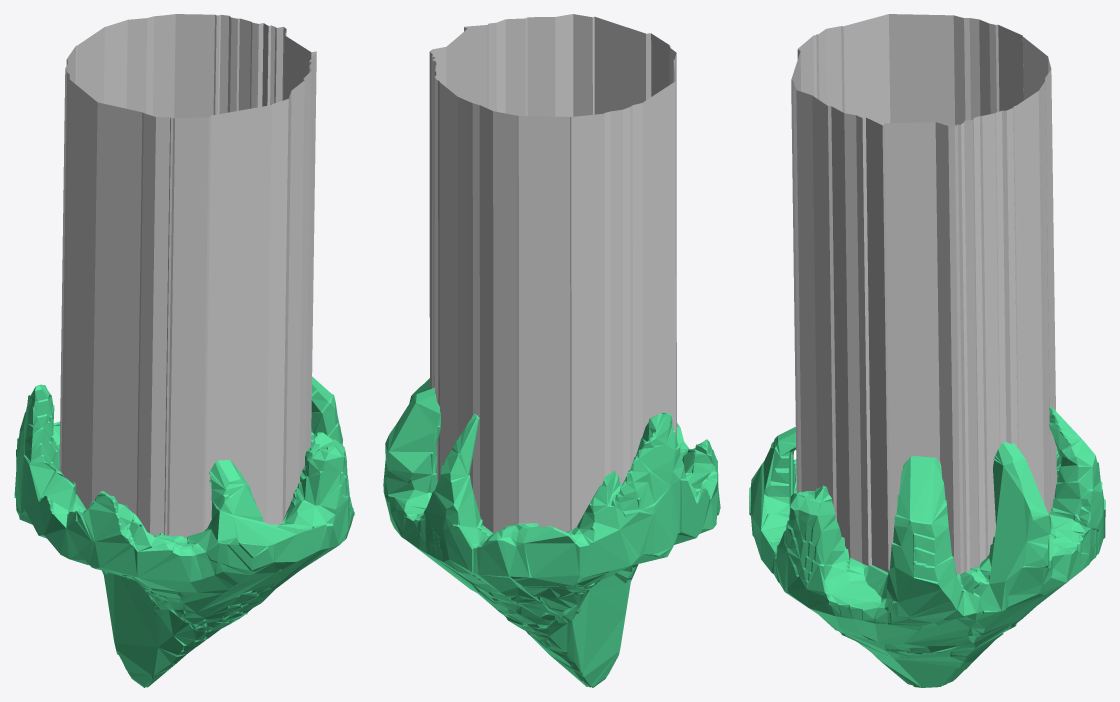
The model's file is GolemArenaV2.fbx.
3 views of the same model, side by side, from view 1: azimuth 30°, elevation 25°; view 2: azimuth 150°, elevation 25°; view 3: azimuth 270°, elevation 25° (orthographic). The views are drawn at different scales.
Parts seen in each view (by area): view 1: Border, ARena; view 2: Border, ARena; view 3: Border, ARena.
Boxes of the visible parts, x1,y1,x2,y2 form: Border: [59, 14, 316, 537]; ARena: [14, 376, 354, 687]; Border: [429, 14, 676, 532]; ARena: [383, 378, 720, 687]; Border: [791, 14, 1056, 574]; ARena: [749, 406, 1105, 687].
Bounding box in the file's own units: 437 × 870 × 445.
